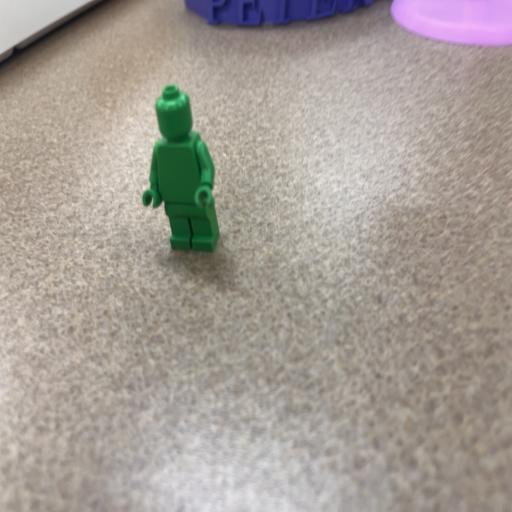Lego-Minifig: (142, 84, 219, 251)
